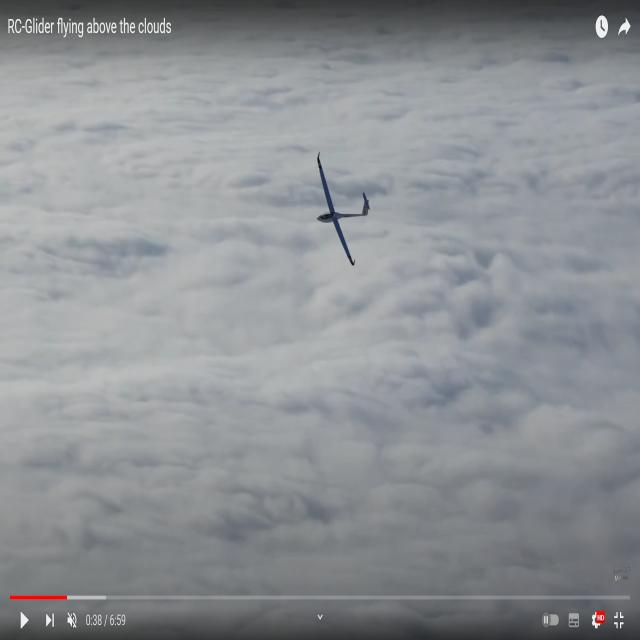iha: (314, 178, 370, 234)
